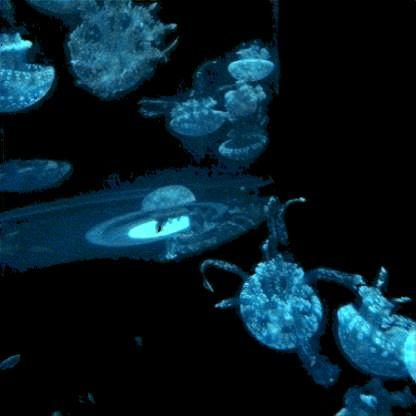LightHouse: (202, 191, 363, 361), (69, 6, 177, 102), (338, 265, 416, 377), (140, 57, 225, 135), (166, 198, 273, 258), (0, 4, 55, 110), (1, 161, 71, 193), (337, 377, 394, 415), (143, 185, 199, 221), (221, 120, 267, 161), (231, 42, 278, 80), (222, 83, 264, 119), (31, 0, 97, 14)
